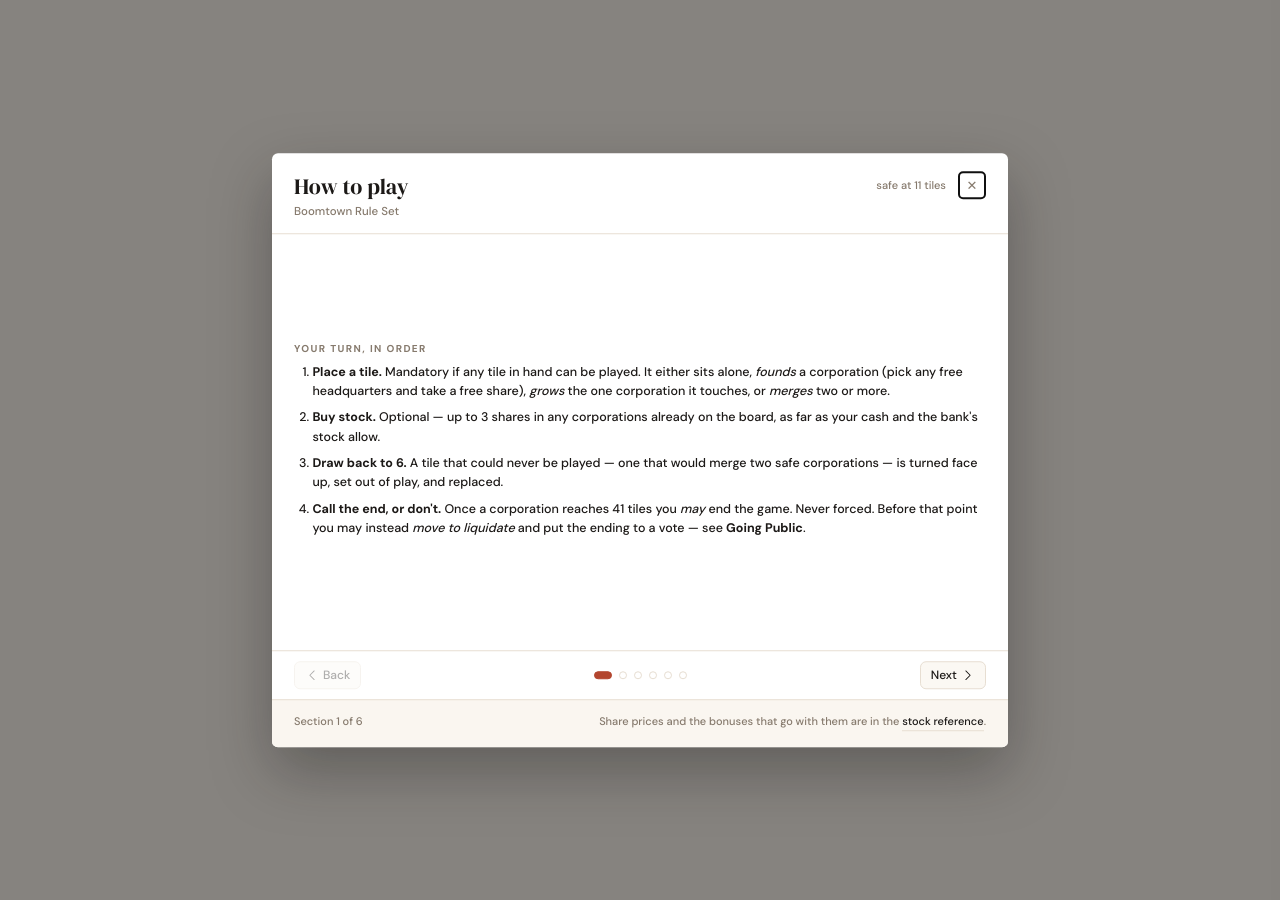
it: RulesReference modal › explains the whole Boomtown ending without reference to anything outside the modal
Expected: the dialog "How to play" shows "Boomtown", [294,204,399,219]
Step 1. Click the button named "Going public: the alternate ending" → (638, 675), box [634,671,642,679]
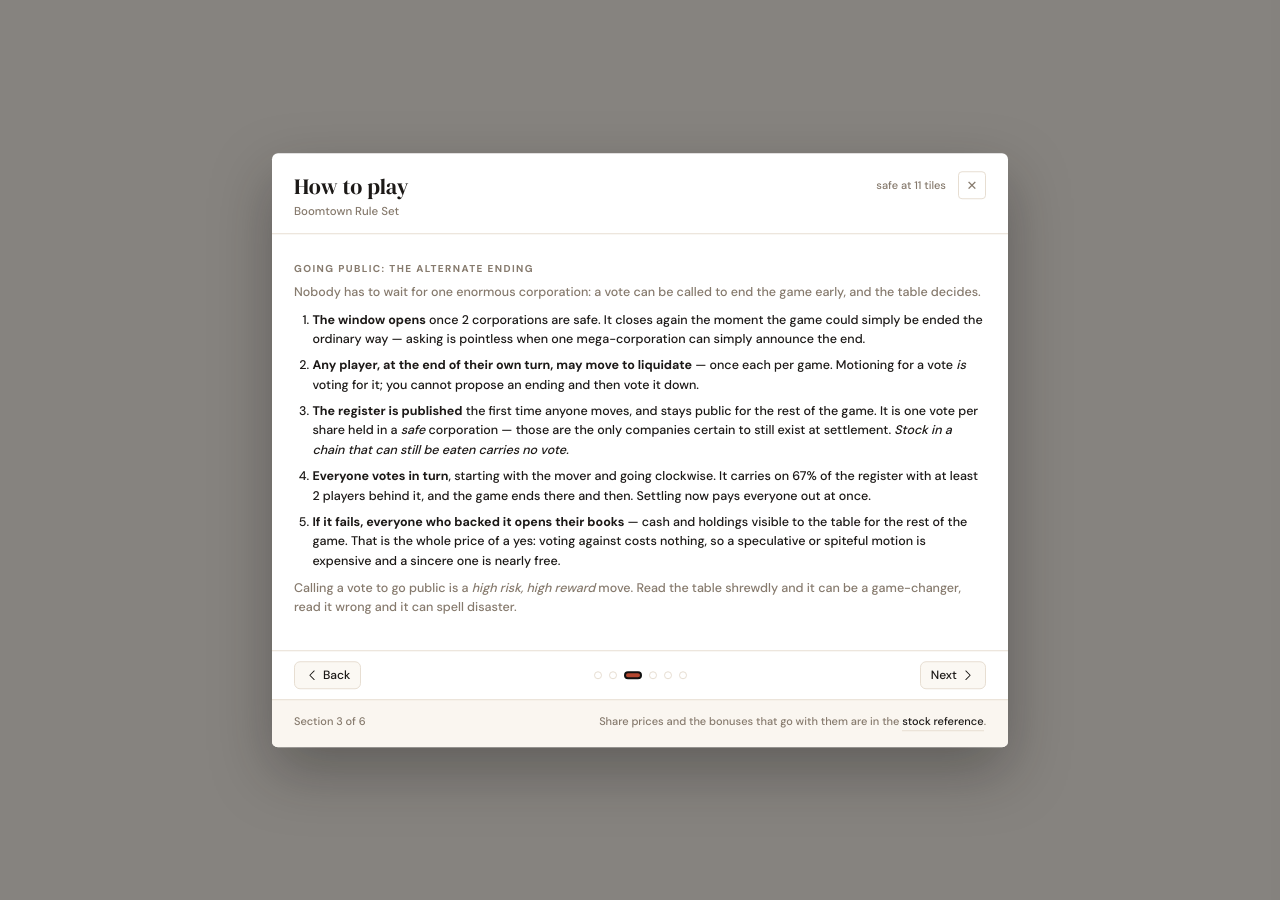
Expected: the dialog "How to play" shows "2 corporations are safe", [312,312,983,347]
Step 2. Click the button named "Worth knowing" → (653, 675), box [649,671,657,679]
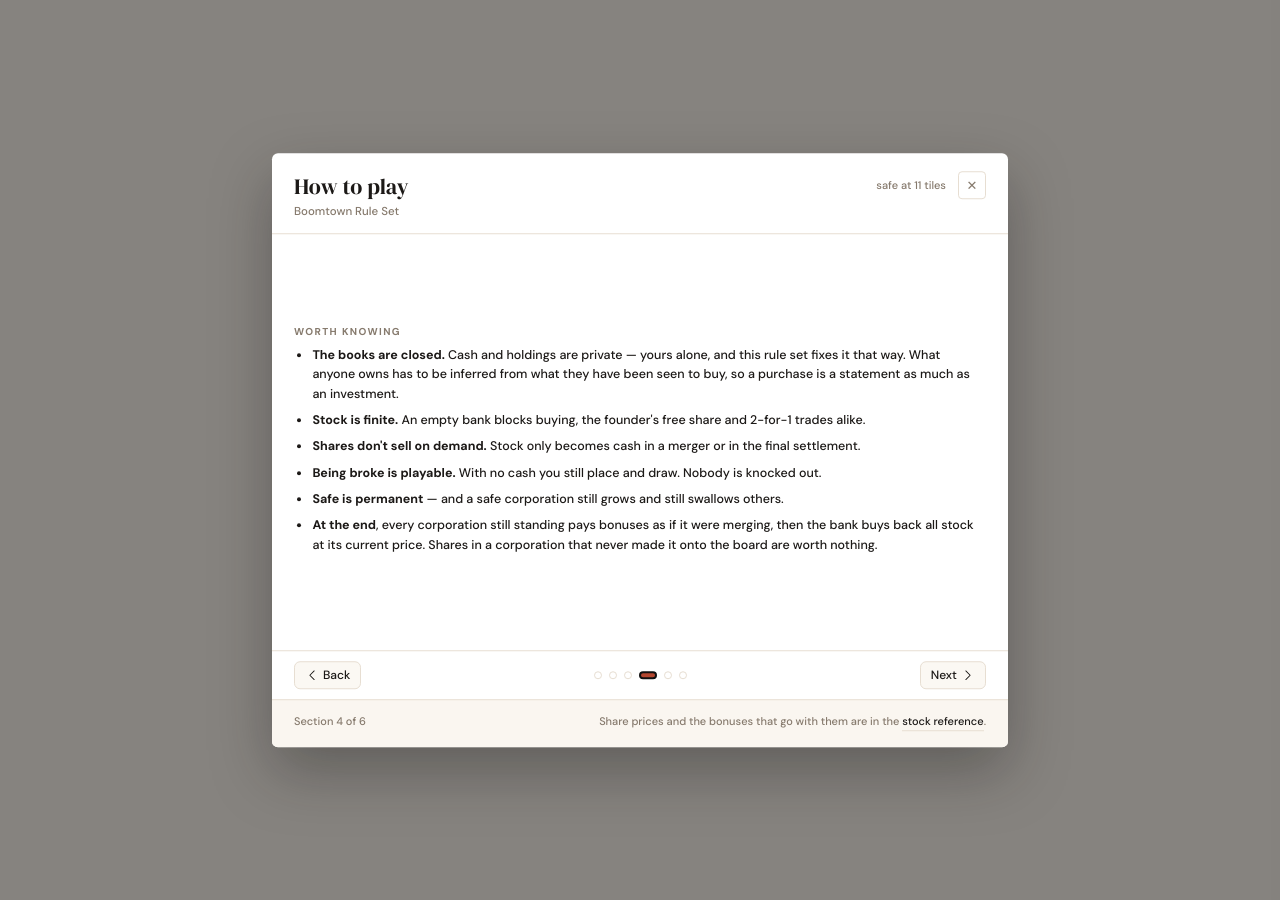
Expected: the dialog "How to play" shows "The books are closed", [312,347,445,363]
